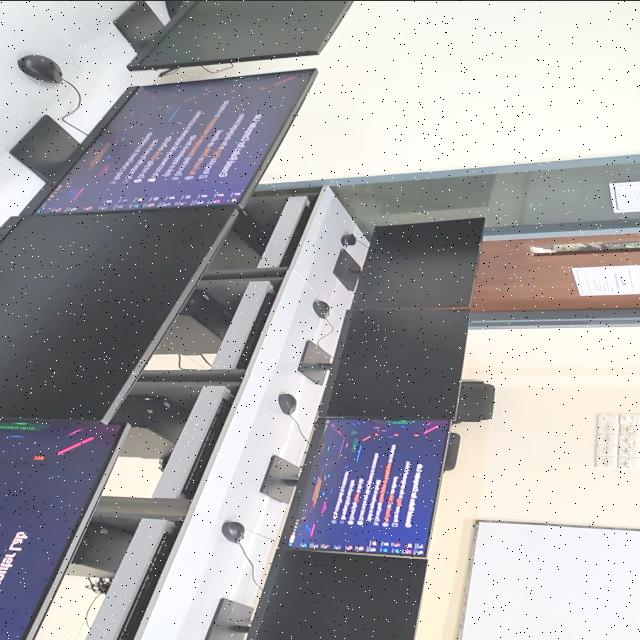Chair: (455, 380, 495, 423), (444, 432, 461, 471)
Cpu: (155, 289, 234, 354), (113, 395, 189, 459), (66, 521, 134, 577), (209, 208, 273, 267)
Keyboard: (116, 529, 178, 640), (182, 394, 231, 498), (237, 291, 275, 368), (280, 199, 313, 266)
Monitor: (0, 205, 237, 420), (10, 69, 316, 213), (0, 418, 123, 640), (262, 418, 459, 556), (205, 547, 426, 640), (299, 309, 468, 419), (115, 0, 353, 70), (334, 217, 483, 307)
Mouse: (18, 54, 62, 82), (222, 521, 245, 542), (279, 393, 297, 414), (166, 0, 187, 17), (313, 299, 330, 318), (341, 233, 357, 245)
